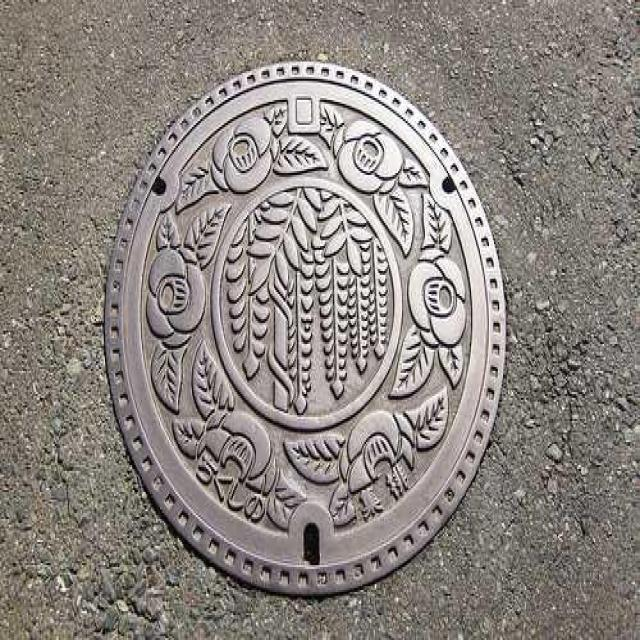manhole: (107, 64, 505, 595)
